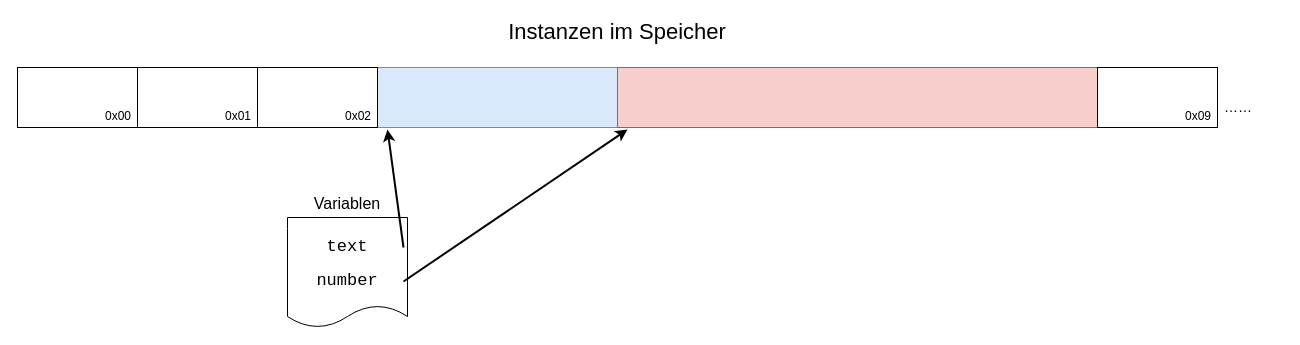
This 1300x345 diagram has some shape labels left out. The shapes that lost their labels are listed below. From the top down, each one's centre as x and y in pixels, then its label:
At [497,97]: "str: 01001000 01101001".
At [857,97]: "float: 11000000 10101000 00000000 00000000".
